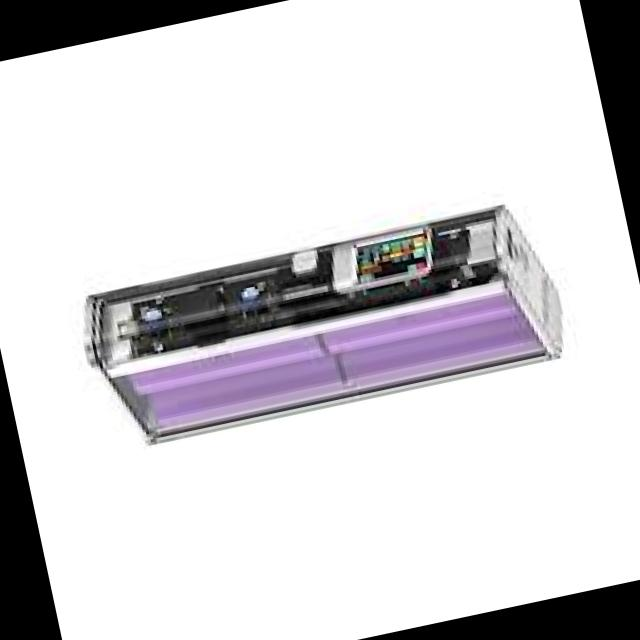portable-charger: (70, 190, 580, 468)
